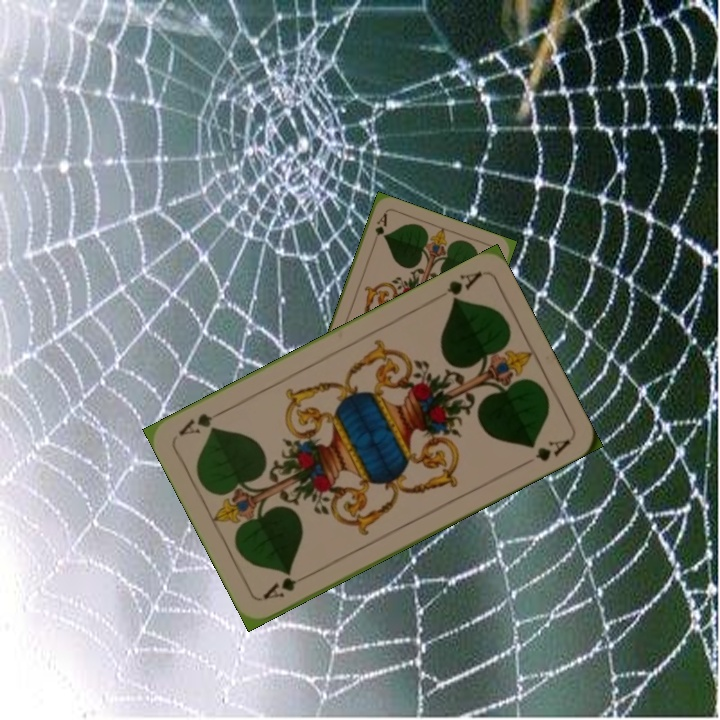GA: (259, 569, 313, 602), (442, 267, 484, 306), (368, 209, 390, 249)
